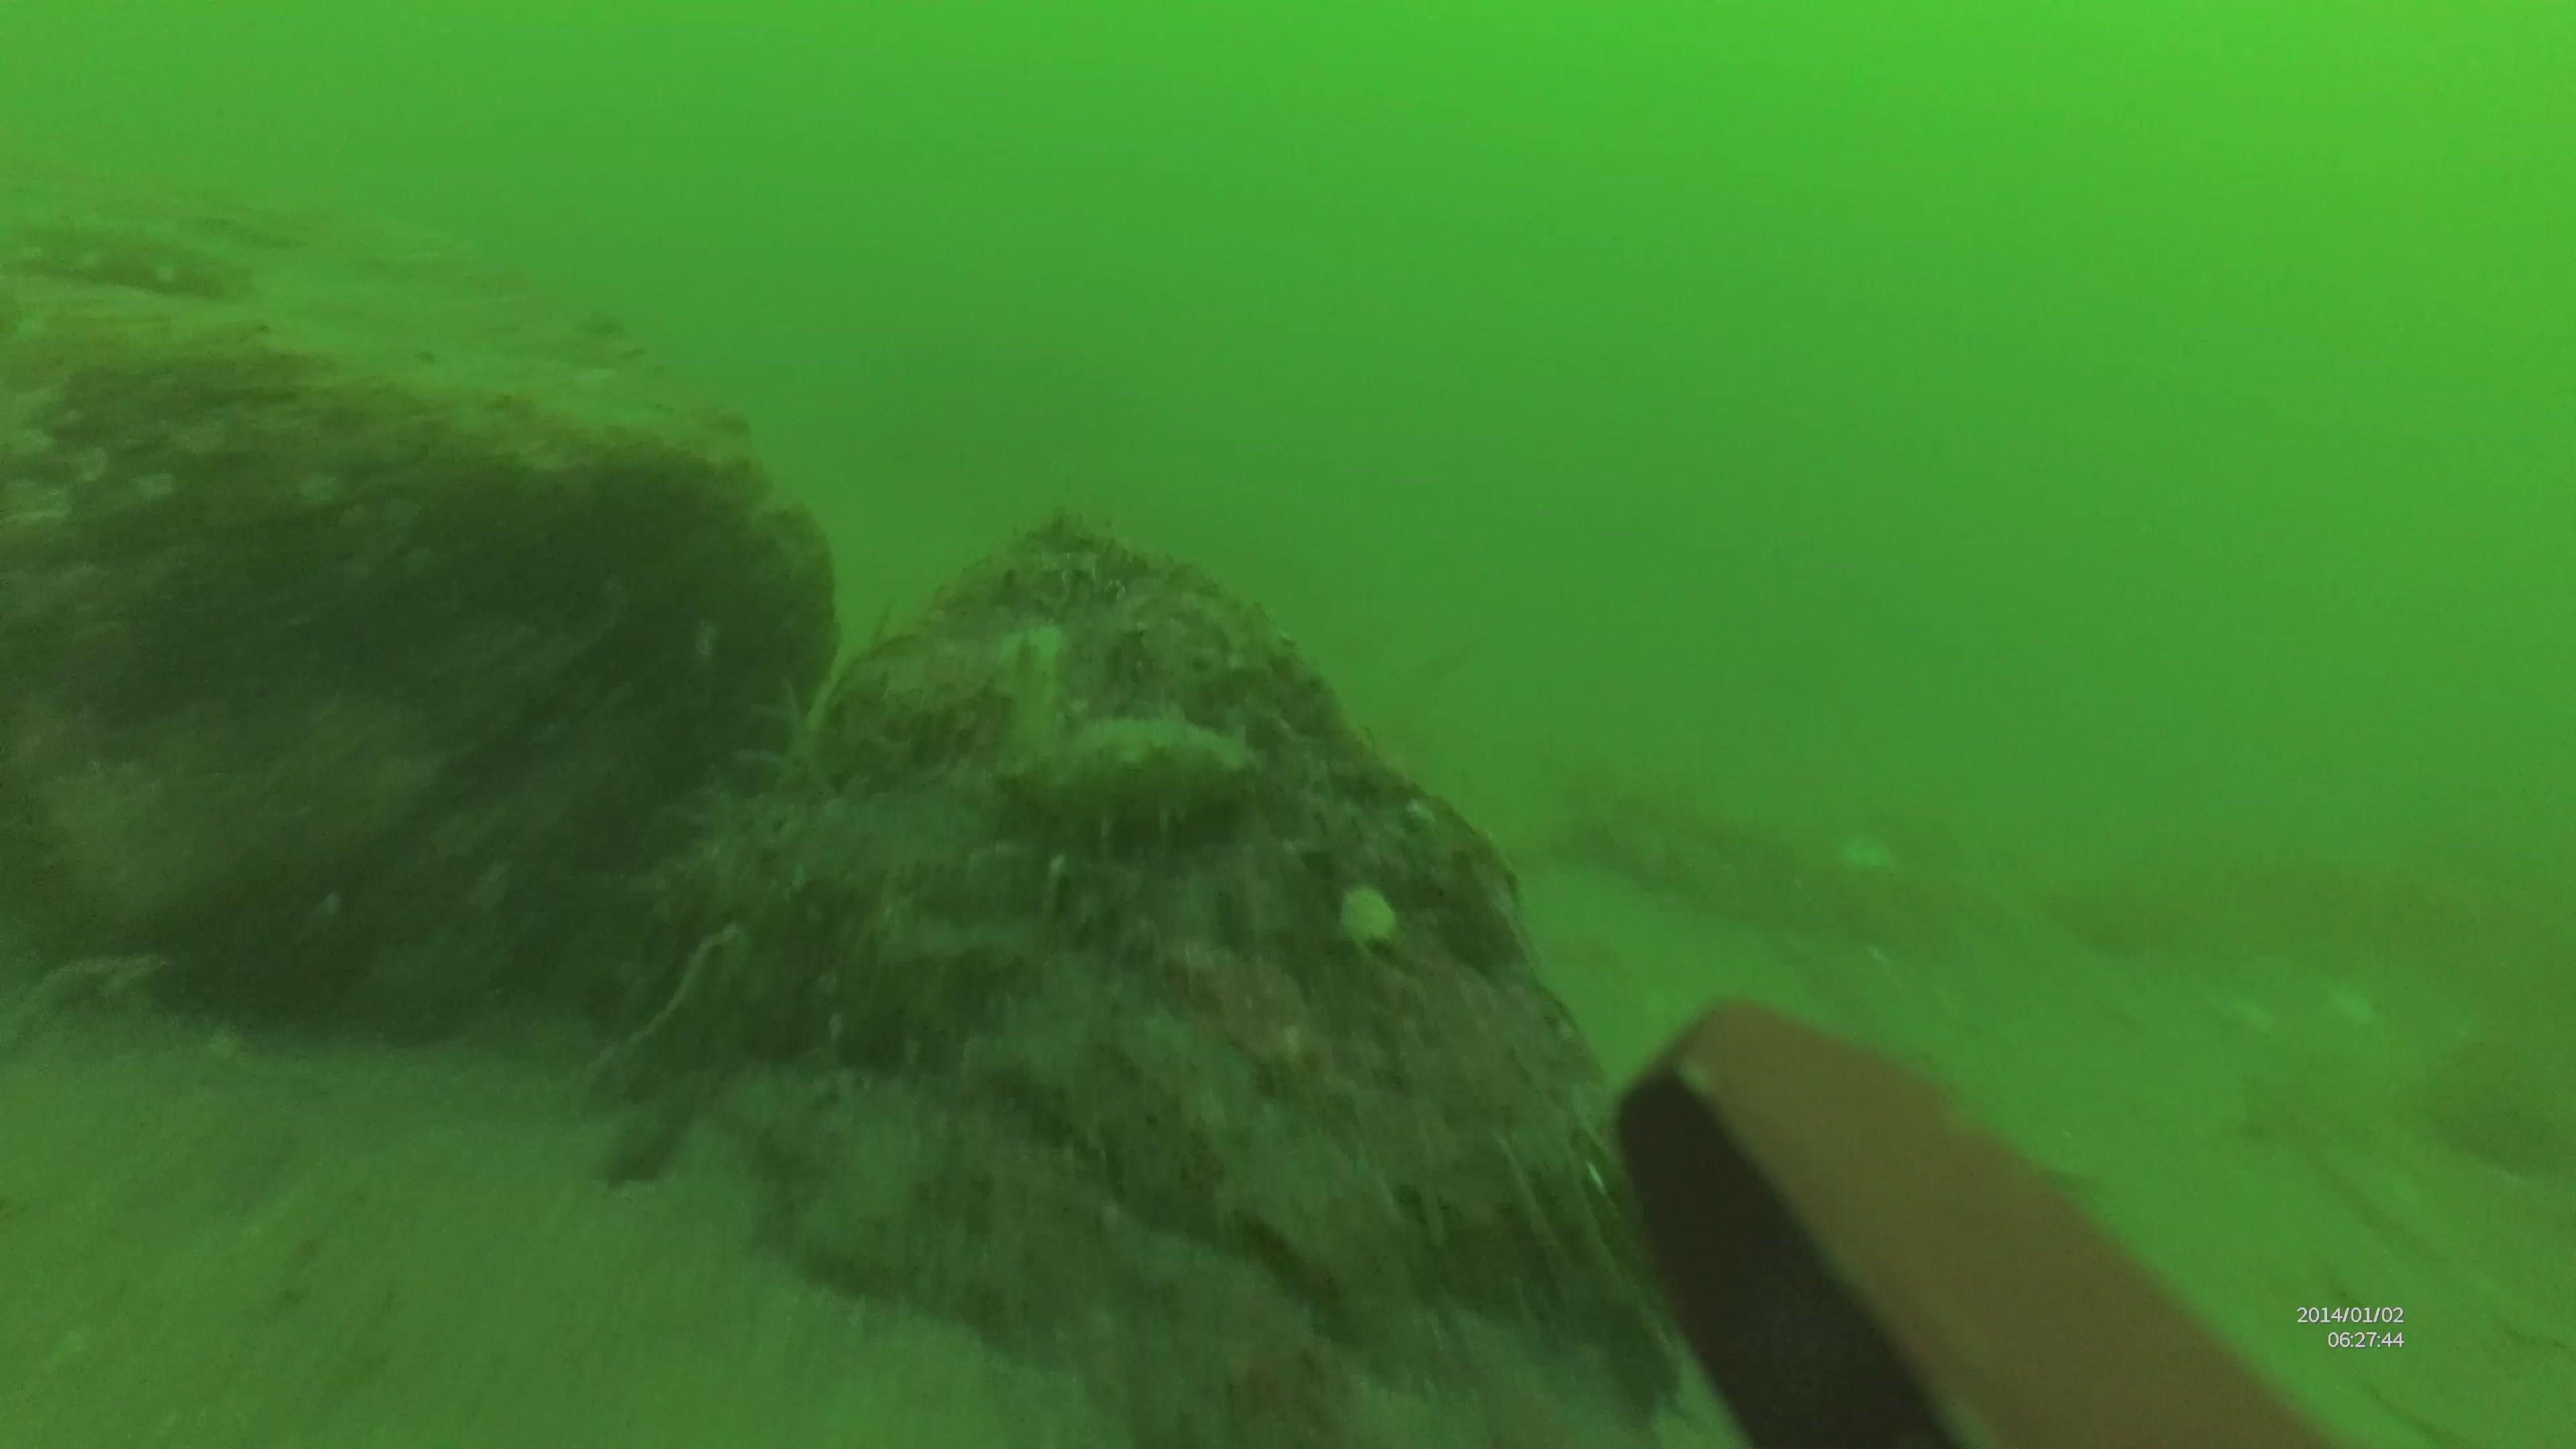holothurian: (977, 646, 1249, 833), (9, 203, 257, 308)
